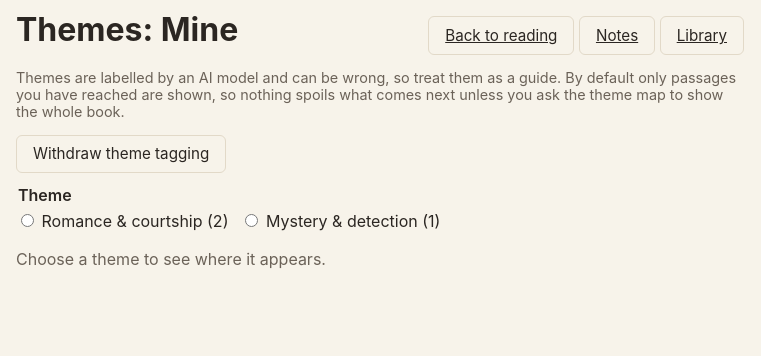
Scenario: ThemesPage › passages_in_flight_when_consent_is_withdrawn_do_not_reappear
Click the radio button labelled "Romance & courtship (2)" at (28, 221), box x1=21 y1=214 x2=34 y2=227
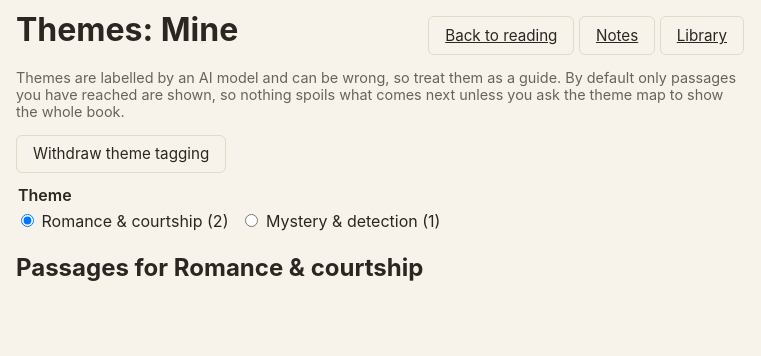
Click the button "Withdraw theme tagging" at (121, 154), box x1=16 y1=135 x2=226 y2=173
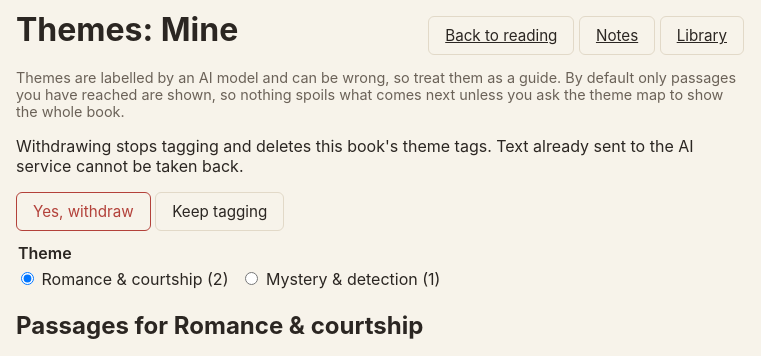
Click the button "Yes, withdraw" at (83, 212), box x1=16 y1=192 x2=151 y2=231
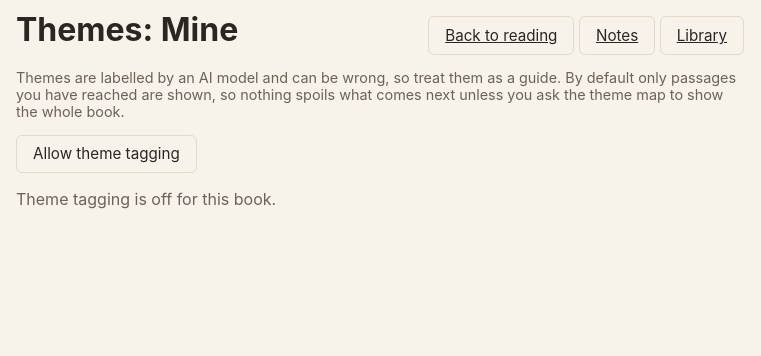
Result: the button "Allow theme tagging" is shown at x1=16 y1=135 x2=197 y2=173
